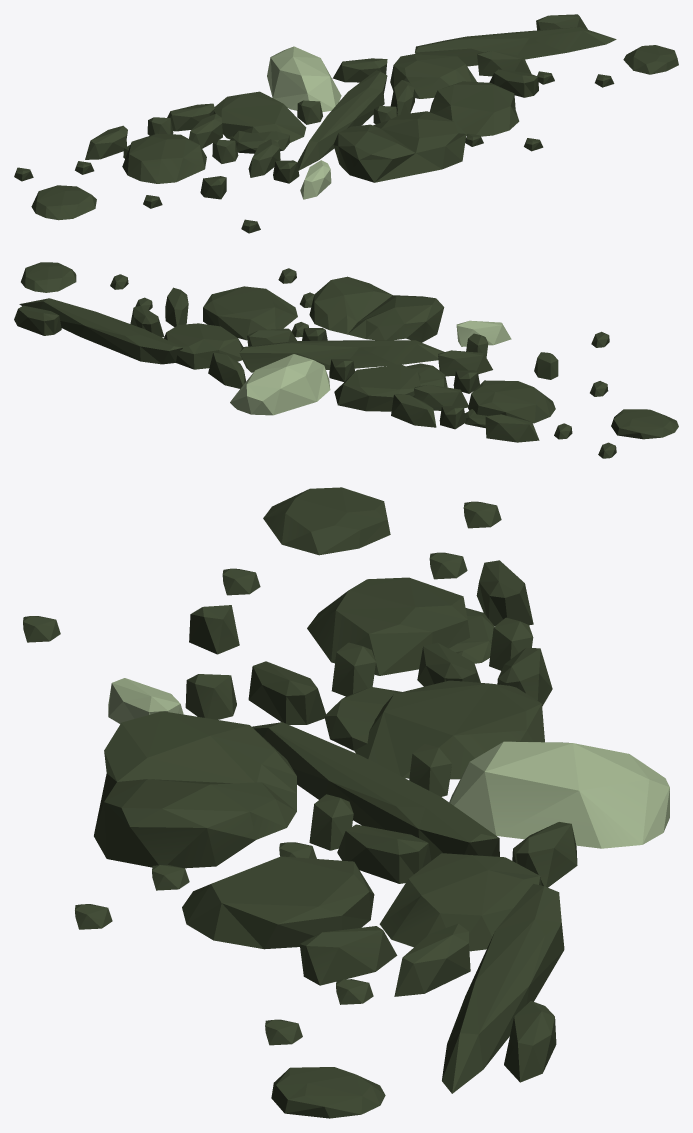
File: EA_Swamp_Stones_03c.glb
3 renders of one model, top to bottom at view 1: azimuth 30°, elevation 25°; view 2: azimuth 150°, elevation 25°; view 3: azimuth 270°, elevation 25°, orthographic. The views are drawn at different scales.
Visible parts, largest first — view 1: EA_Swamp_Stones_03c; view 2: EA_Swamp_Stones_03c; view 3: EA_Swamp_Stones_03c.
Part boxes in pixels (left/top/right/bottom): EA_Swamp_Stones_03c: left=14, top=14, right=678, bottom=233; EA_Swamp_Stones_03c: left=14, top=262, right=678, bottom=458; EA_Swamp_Stones_03c: left=23, top=487, right=669, bottom=1118.
Bounding box in the file's own units: 7.95 × 0.3892 × 3.48.
1 material, 1 textured.
